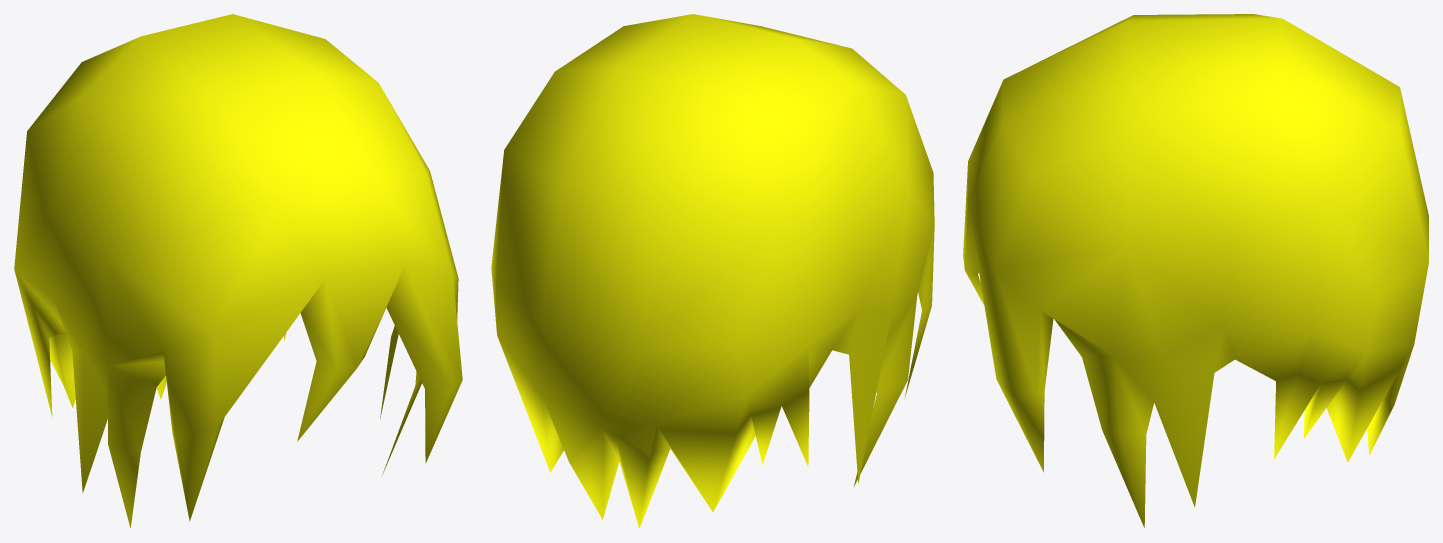
Rendered from hair_eren2.glb.
3 views of the same model, side by side, from view 1: azimuth 30°, elevation 25°; view 2: azimuth 150°, elevation 25°; view 3: azimuth 270°, elevation 25° (orthographic).
Visible parts, largest first — view 1: hair_erentitan; view 2: hair_erentitan; view 3: hair_erentitan.
Part boxes in pixels (x1,y1,x2,y2): hair_erentitan: (14, 14, 462, 527); hair_erentitan: (491, 14, 934, 528); hair_erentitan: (963, 14, 1428, 527).
Size of the model in its own units: 0.2188 by 0.2736 by 0.2697.
1 material, 1 textured.
